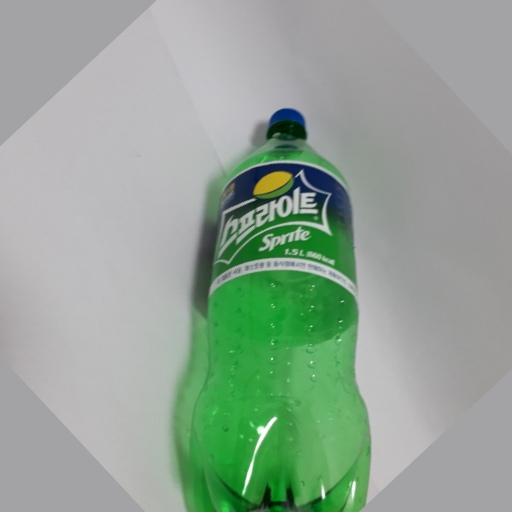Plastic_0: (188, 107, 376, 512)
